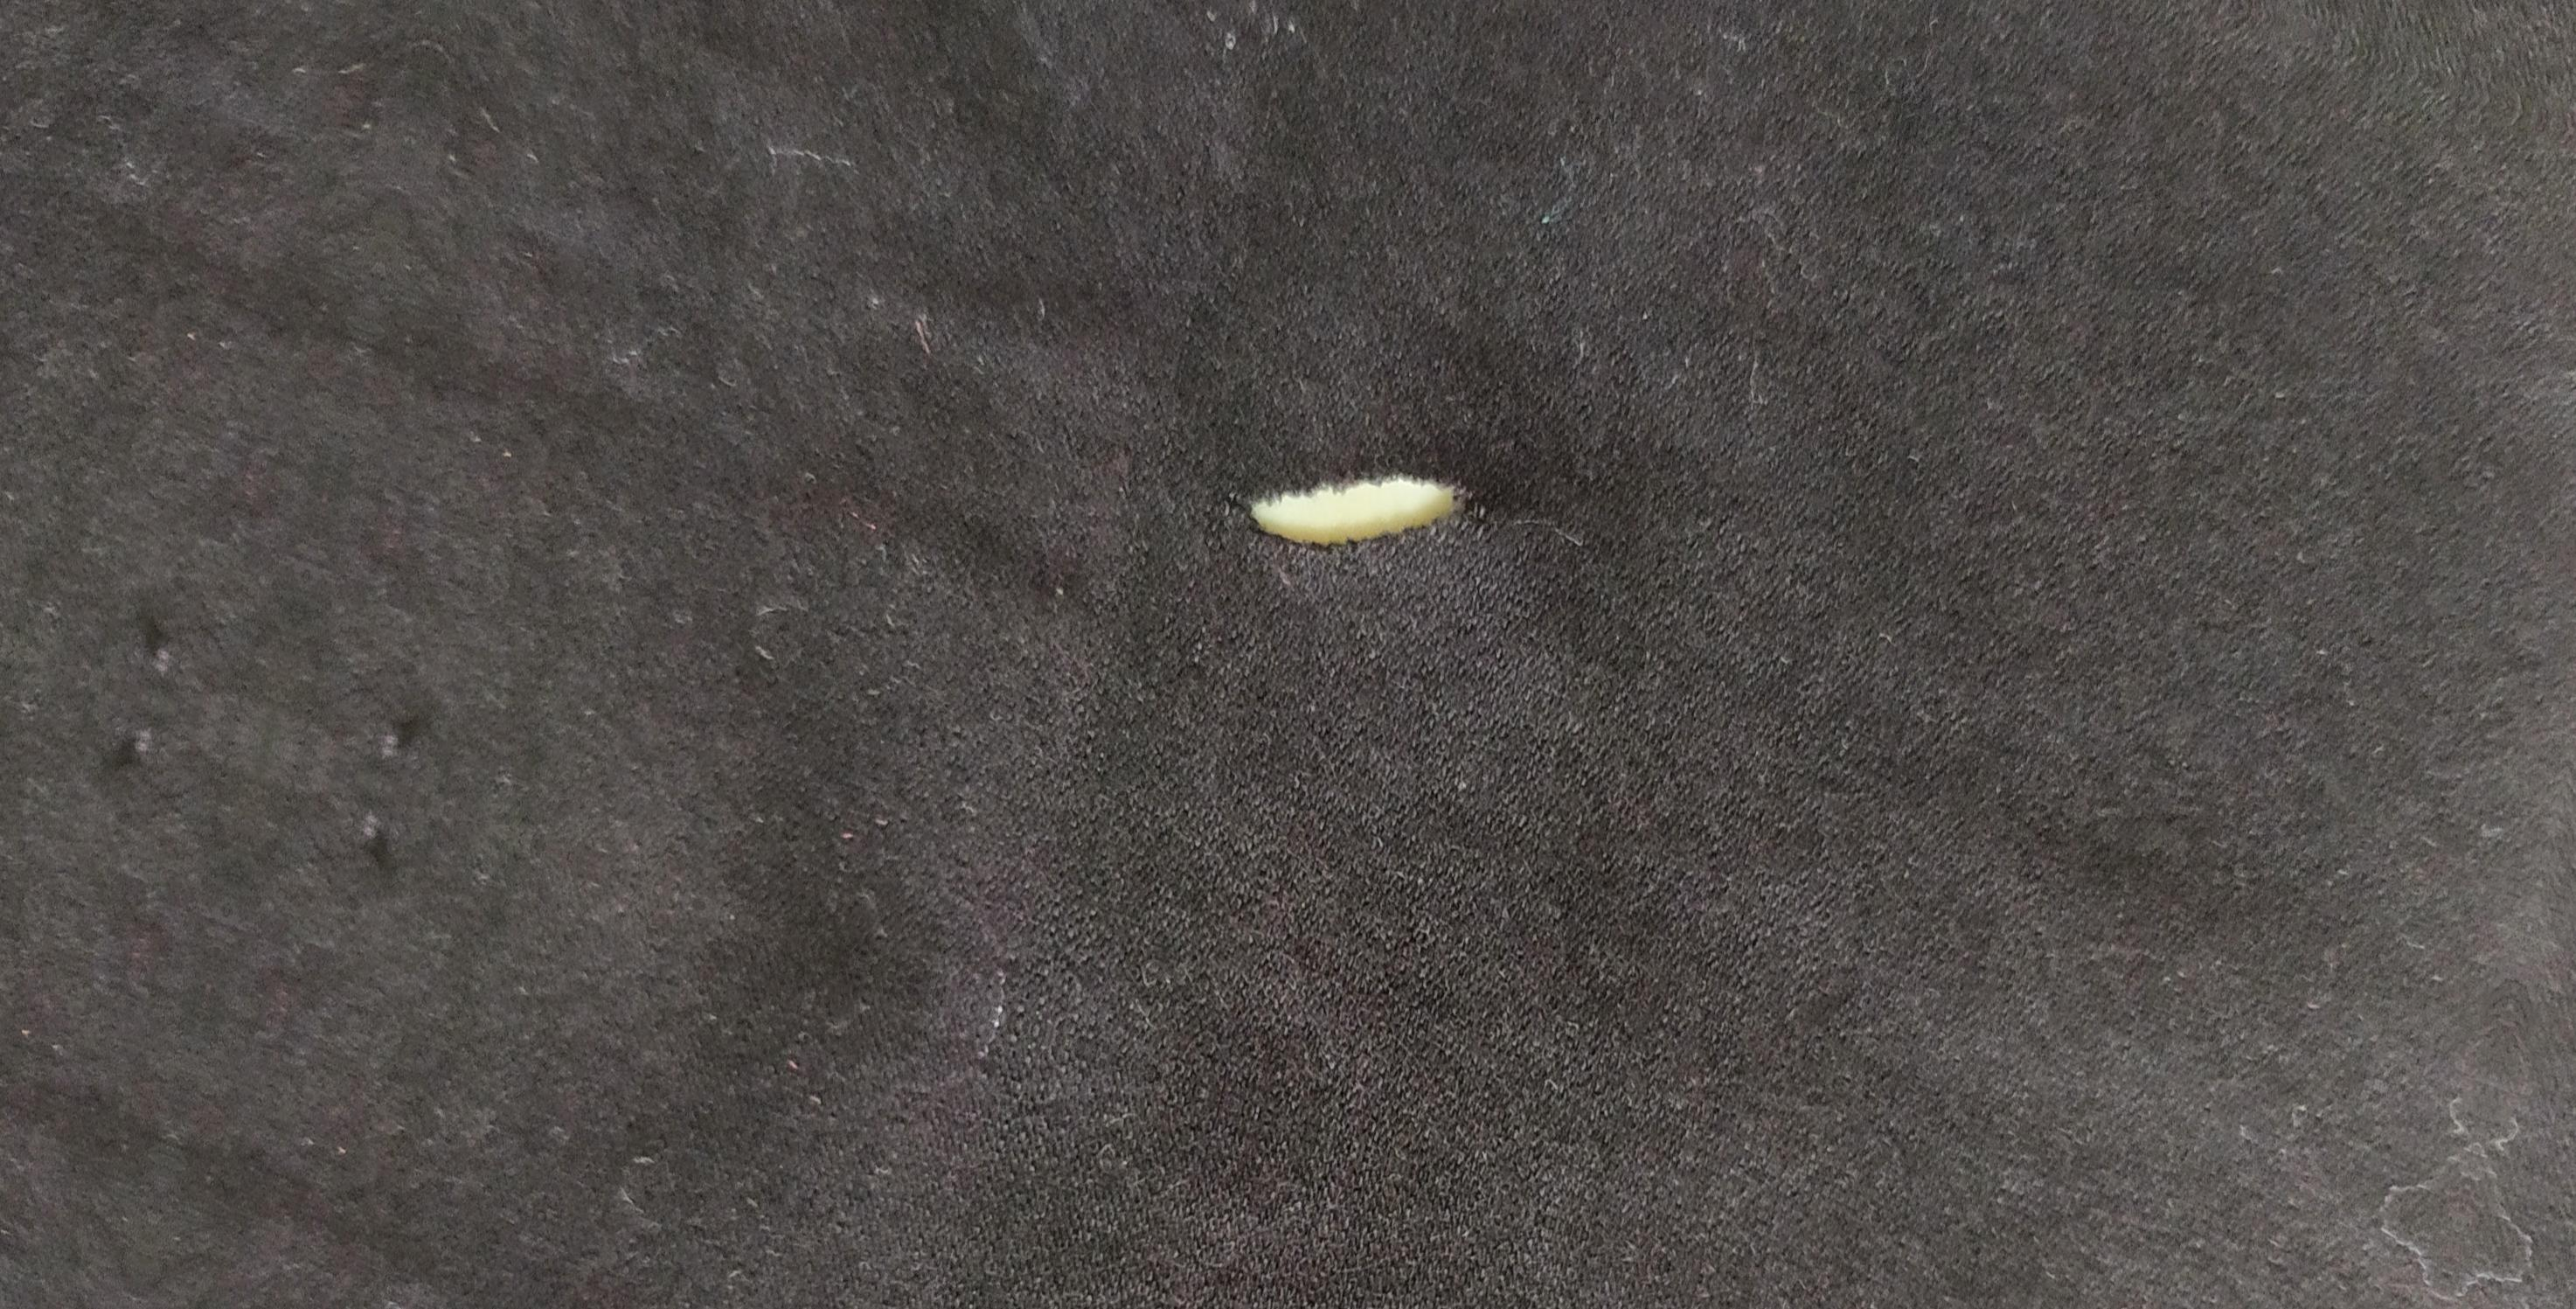hole: (1241, 452, 1488, 574)
